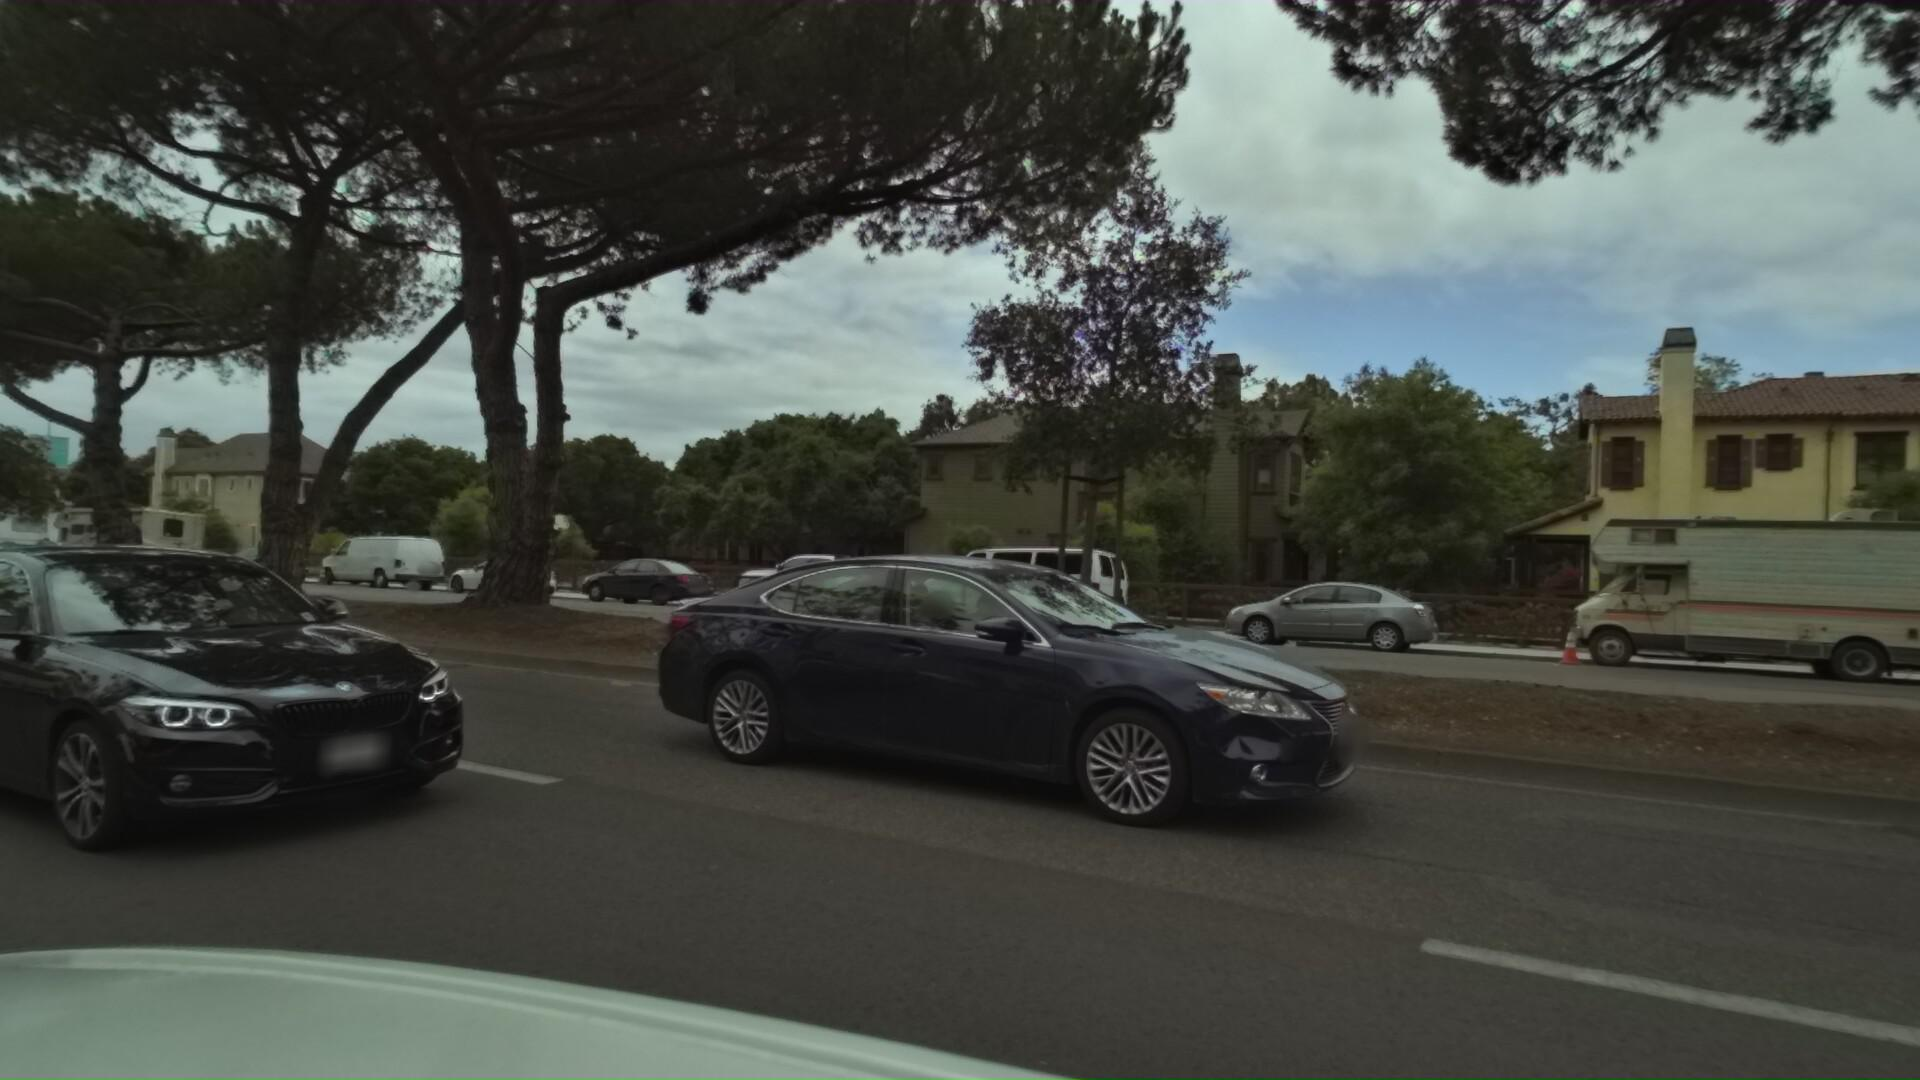car: (645, 485, 1419, 877), (0, 493, 567, 903), (885, 535, 1117, 636), (1178, 566, 1418, 655), (703, 545, 911, 626), (301, 525, 448, 589), (556, 549, 709, 611), (427, 551, 558, 599), (198, 538, 313, 585)
other_vehicle: (1515, 495, 1920, 703), (41, 496, 222, 575), (0, 495, 70, 566), (0, 527, 79, 567)
